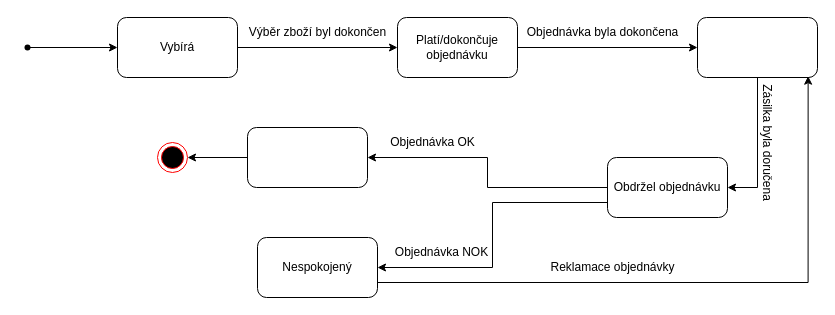
This 835x315 diagram has some shape labels left out. The shapes that lost their labels are listed below. From the top down, each one's centre as x and y in pixels, then its label:
point 757,47: Čeká
point 307,157: Spokojený
